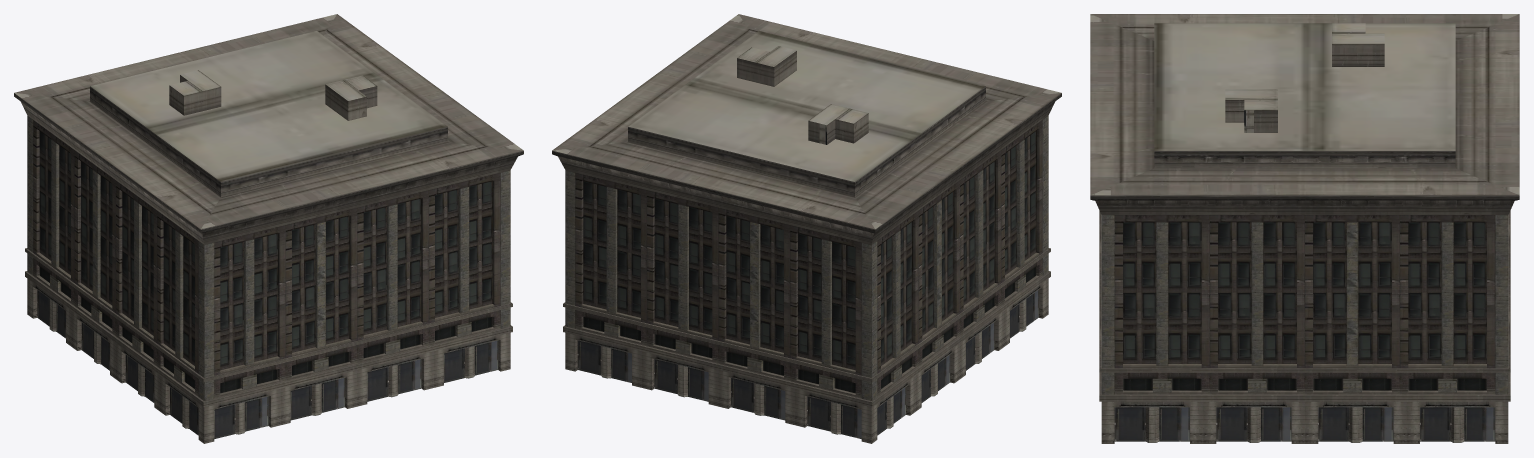
Rendered from resid4.glb.
3 views of the same model, side by side, from view 1: azimuth 30°, elevation 25°; view 2: azimuth 150°, elevation 25°; view 3: azimuth 270°, elevation 25° (orthographic). The views are drawn at different scales.
Visible parts, largest first — view 1: resid4; view 2: resid4; view 3: resid4.
Boxes of the visible parts, left/top/right/bottom form: resid4: left=14, top=14, right=523, bottom=443; resid4: left=552, top=14, right=1061, bottom=443; resid4: left=1090, top=14, right=1519, bottom=443.
Size of the model in its own units: 36.95 by 27.88 by 36.95.
Materials: 2 (2 with a texture image).
